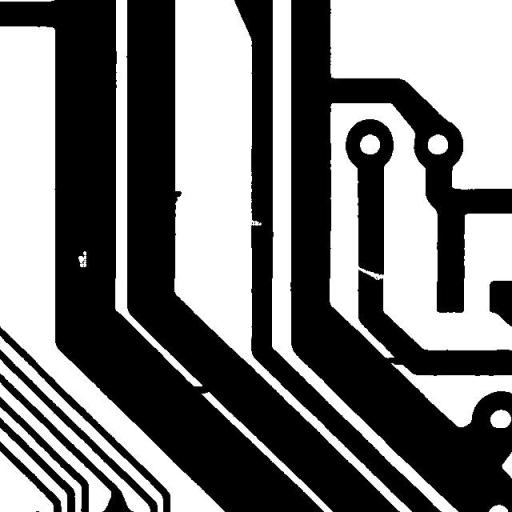mousebite: (241, 212, 269, 233)
open: (344, 257, 394, 287)
pin-hole: (70, 244, 94, 274)
short: (180, 378, 218, 403), (376, 350, 412, 372)
spur: (162, 183, 188, 209)
